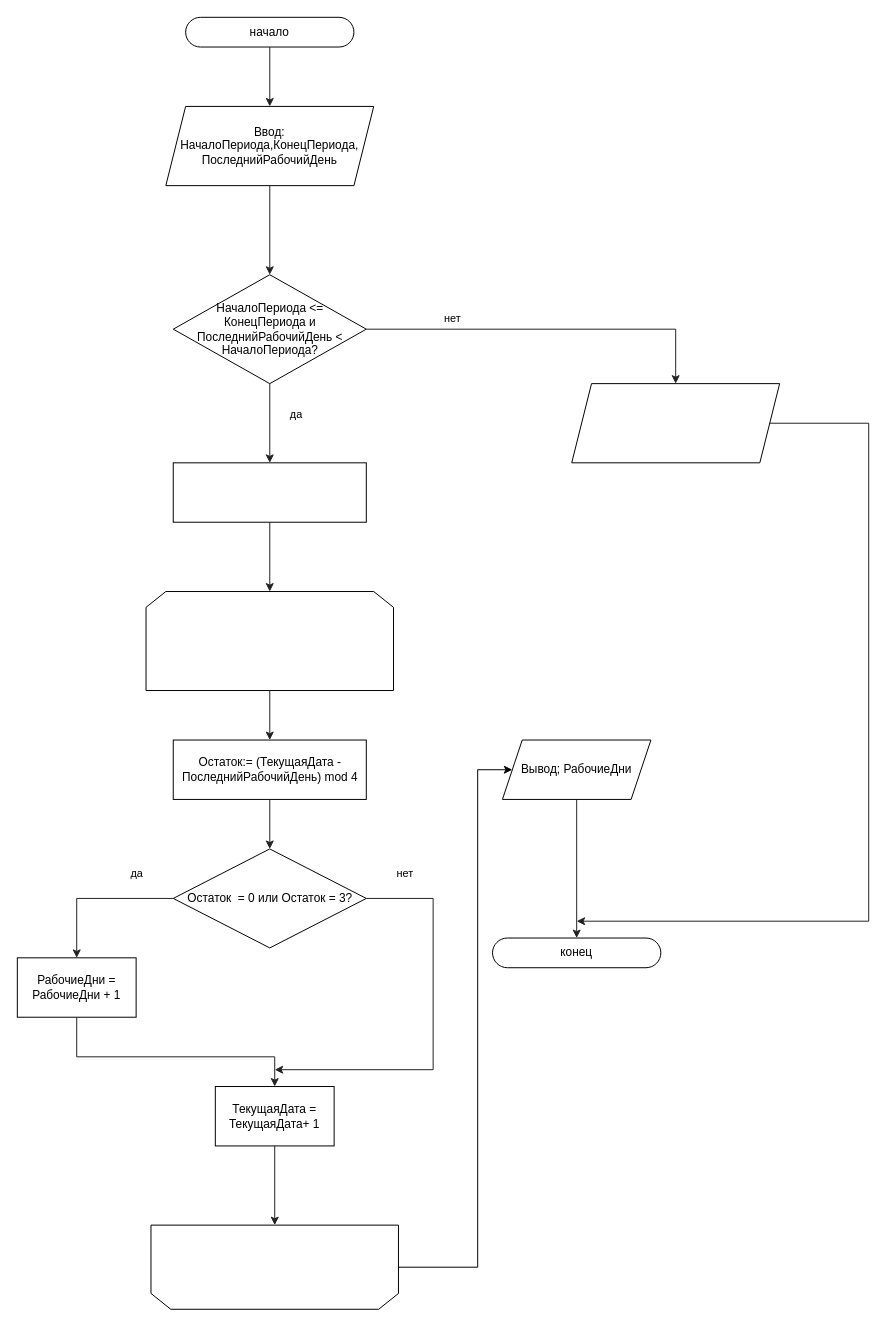
This 894x1327 diagram has some shape labels left out. Here are the shapes that lost their labels. From the top down, the box of each, then its label:
(571, 383, 780, 463): Вывод: Ошибка входных дат
(172, 462, 366, 522): ТекущаяДата:= НачалоПериода РабочиеДни:= 0
(145, 591, 394, 691): Ц1 — Начало цикла ТекущаяДата <= КонецПериода?
(150, 1224, 398, 1309): Ц1 — Конец цикла
